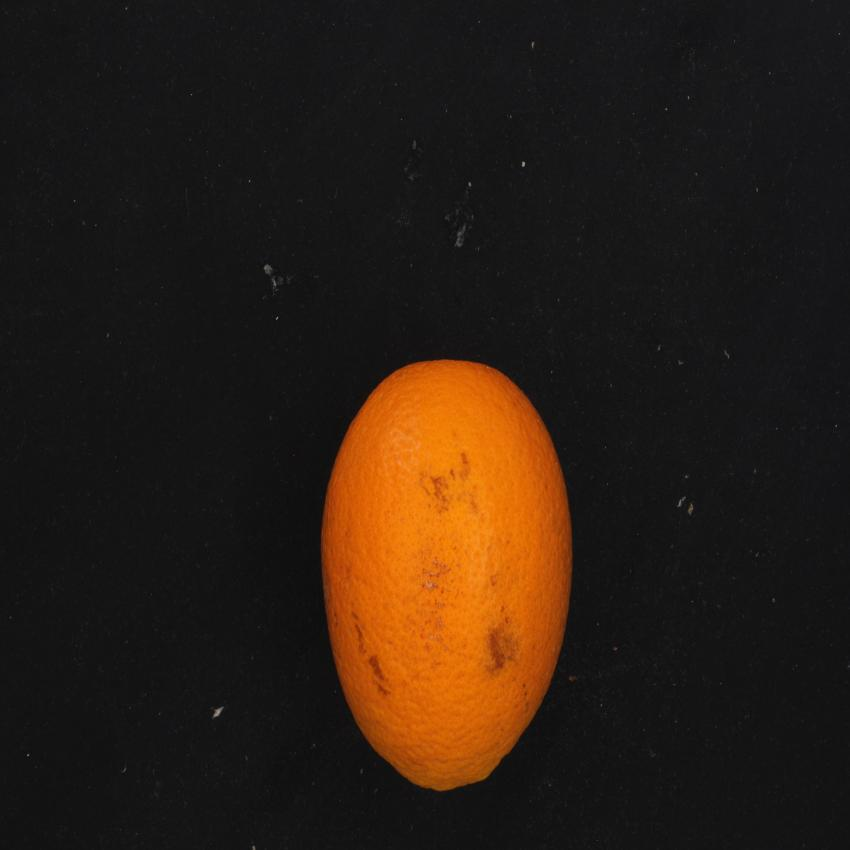Mal estado: (307, 334, 608, 800)
